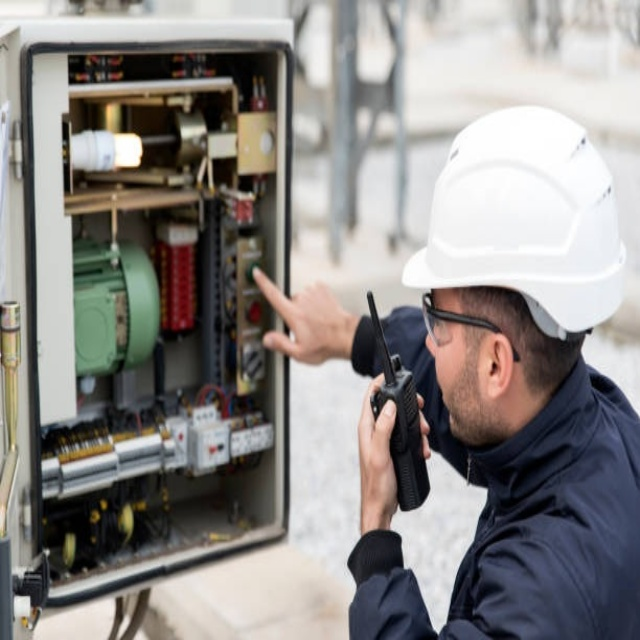Gafas: (421, 292, 519, 365)
Sin_guantes: (355, 373, 423, 528), (252, 268, 356, 367)
Sin_mascara: (427, 345, 476, 438)
